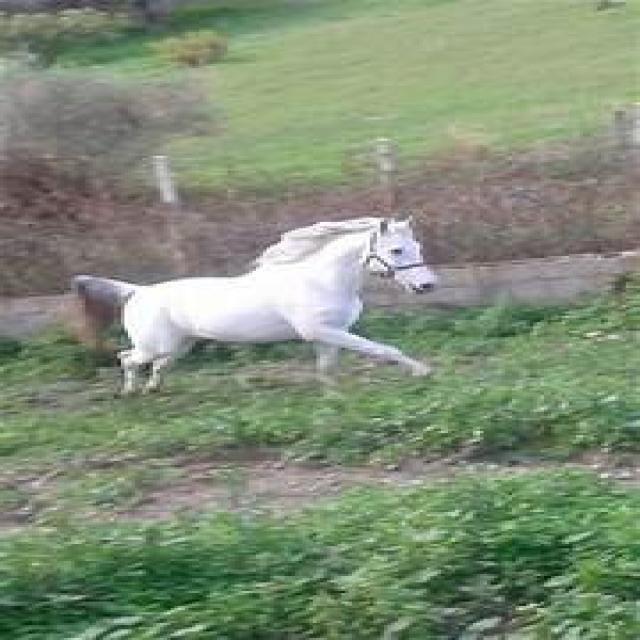horse: (71, 218, 437, 397)
